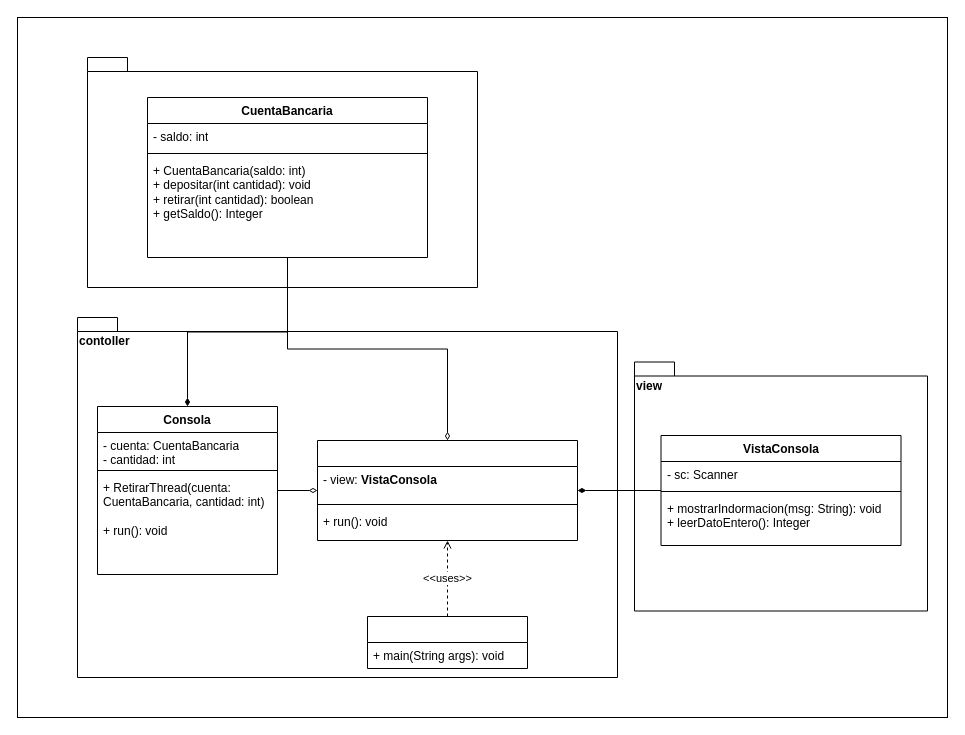
This 965x735 diagram has some shape labels left out. The box of each missing label's shape, as (x1, y1, x2, y2) in pixels:
Controller: (316, 440, 578, 540)
Launcher: (366, 616, 528, 668)
model: (86, 56, 478, 288)
